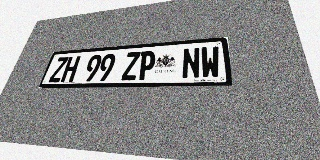9: (83, 54, 103, 82), (96, 53, 116, 81)
H: (60, 56, 81, 82)
N: (181, 47, 200, 79)
P: (137, 50, 156, 80)
W: (201, 46, 221, 79)
Z: (121, 51, 141, 81), (48, 57, 69, 82)
